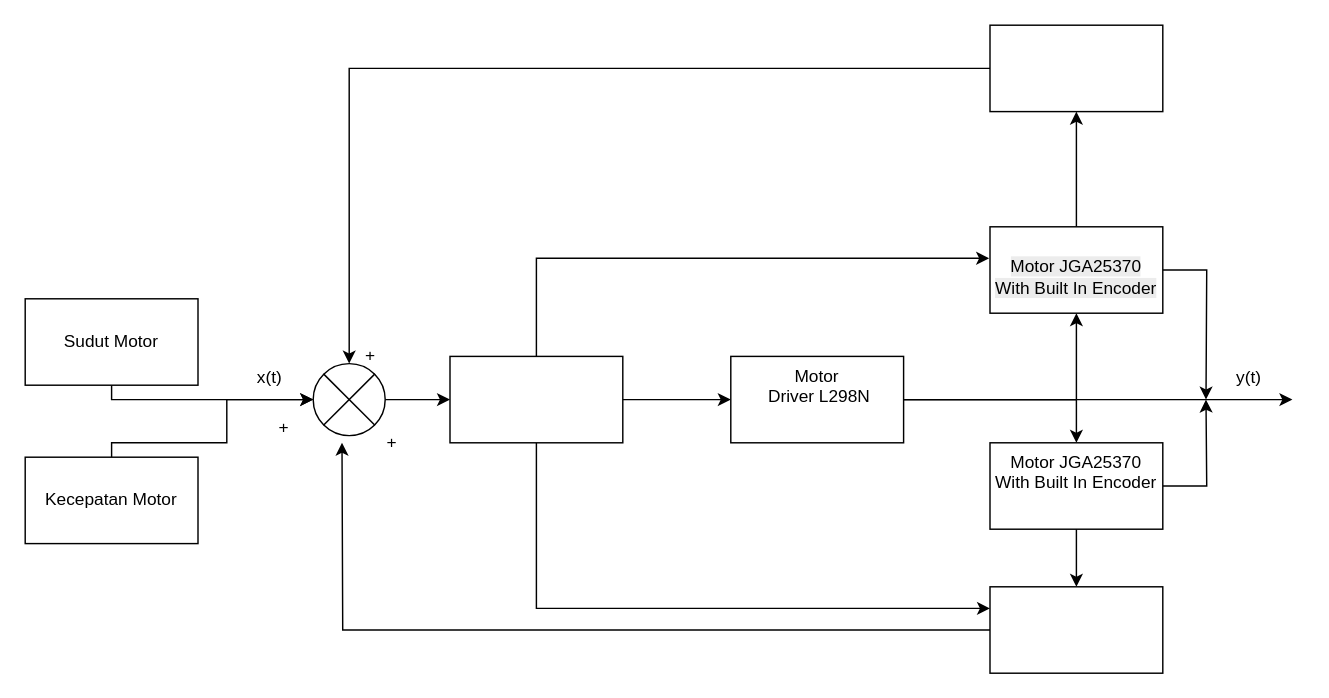
This 1329x698 diagram has some shape labels left out. The shapes that lost their labels are listed below. From the top down, each one's box as (x1, y1, x2, y2) in pixels, then its label:
(989, 24, 1163, 112): Encoder Sudut
(449, 355, 623, 443): Arduino UNO R3)
(989, 585, 1163, 673): Encoder Kecepatan
